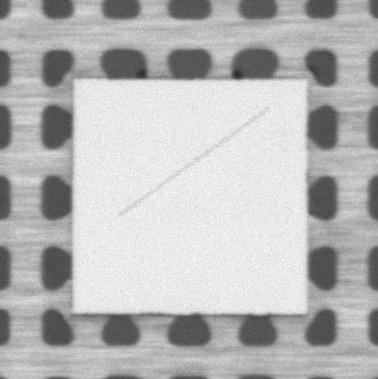DIE_CRACK: (121, 109, 267, 215)
